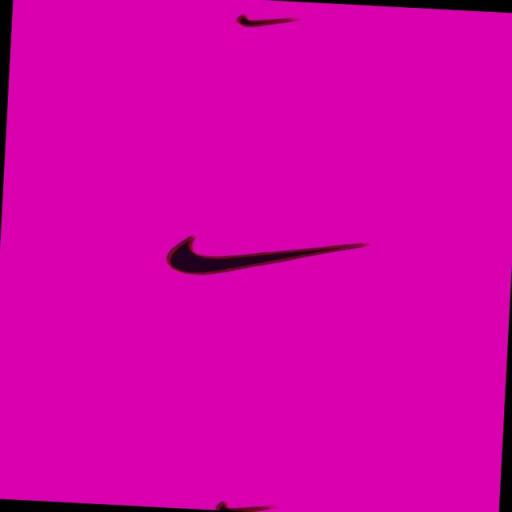Nike: (148, 222, 391, 296)
